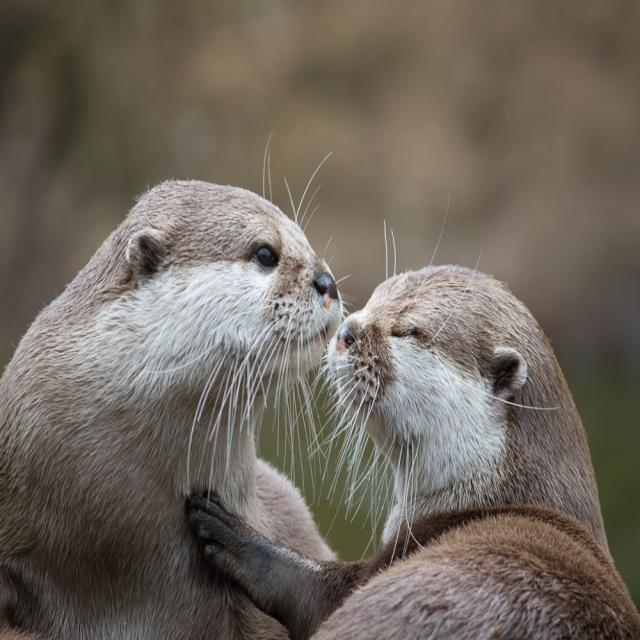otter: (1, 179, 340, 640), (330, 263, 640, 640)
